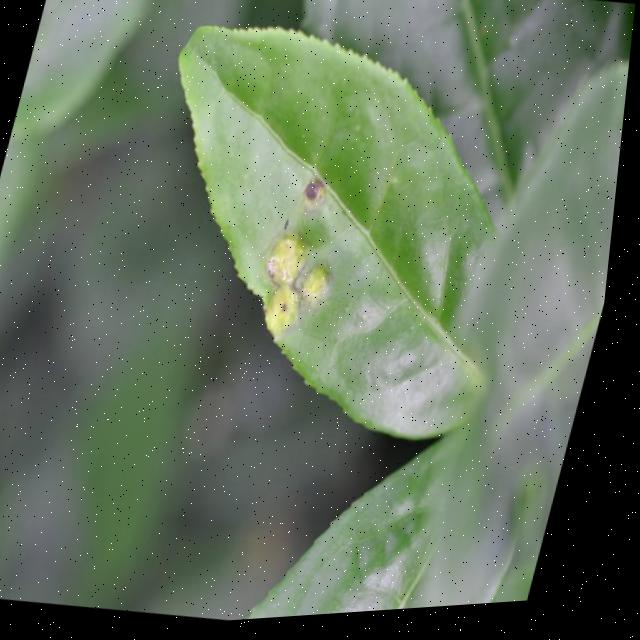Tea cake: (259, 230, 351, 336), (303, 171, 347, 225)
